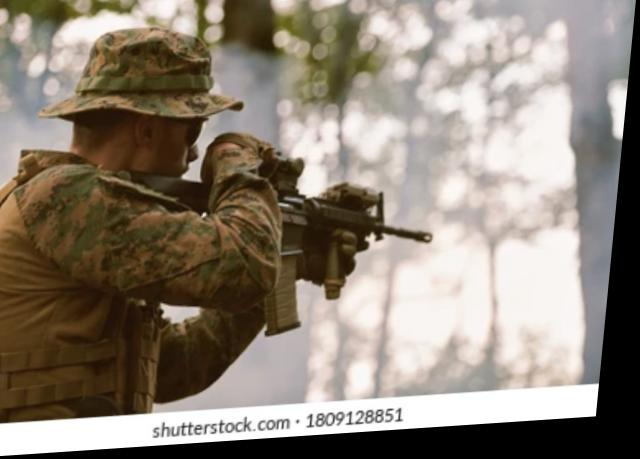other: (0, 15, 304, 414)
